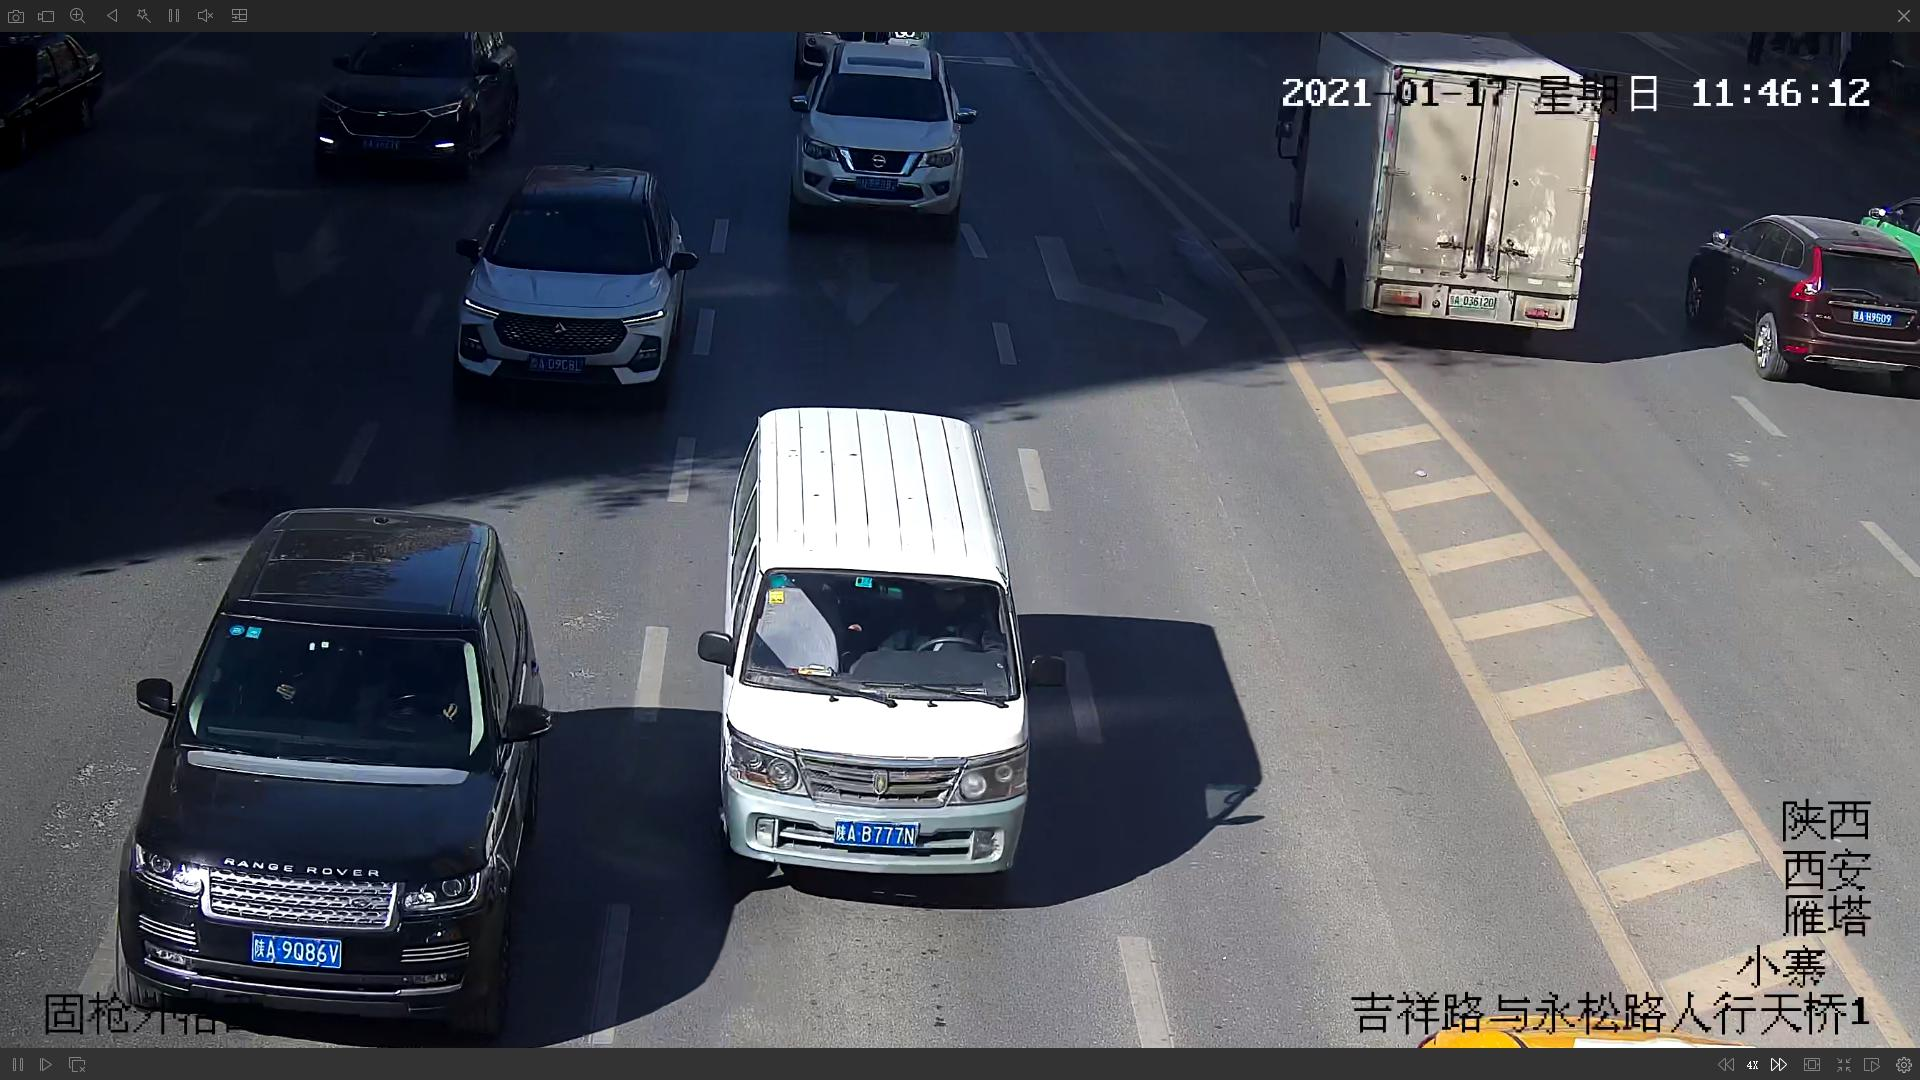black: (109, 498, 570, 1023)
white: (712, 411, 1036, 876), (448, 167, 696, 406)
